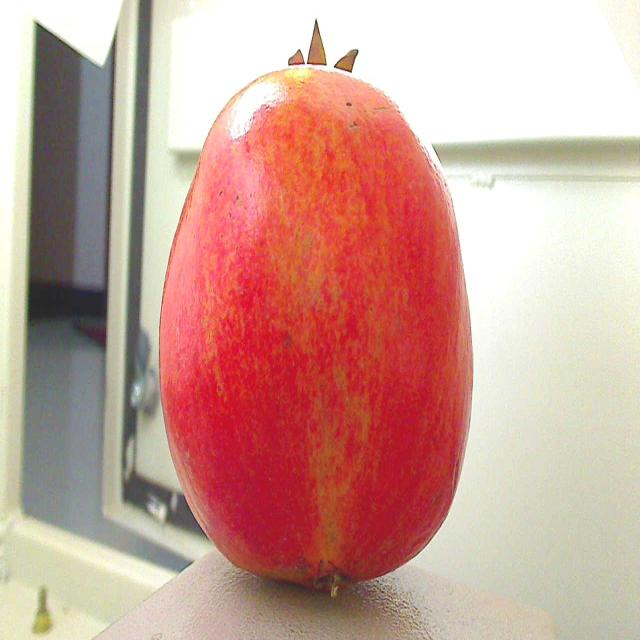pomegranate: (145, 7, 488, 609)
